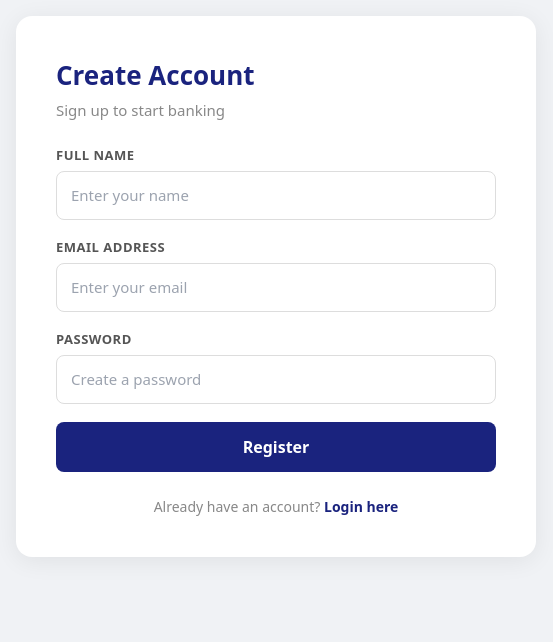
Test case: RegisterPage › shows generic error when no response message
The image size is (553, 642).
Type "Mary Anger" into the field with placeholder "Enter your name" at (276, 195), box left=56, top=171, right=496, bottom=220
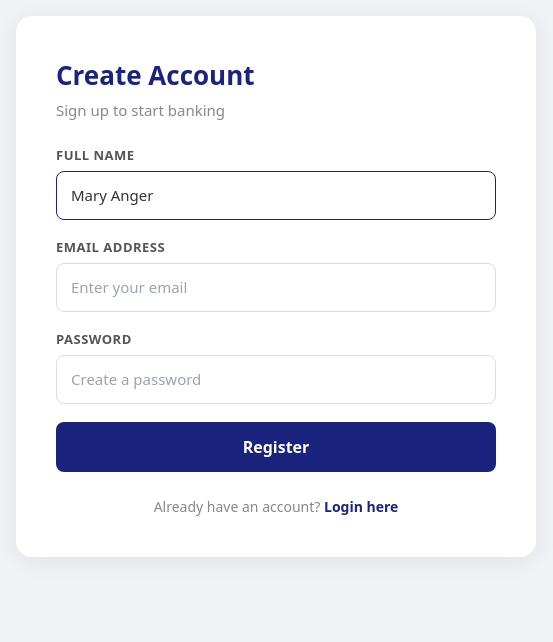
Type "mary@example.com" into the field with placeholder "Enter your email" at (276, 287), box left=56, top=263, right=496, bottom=312
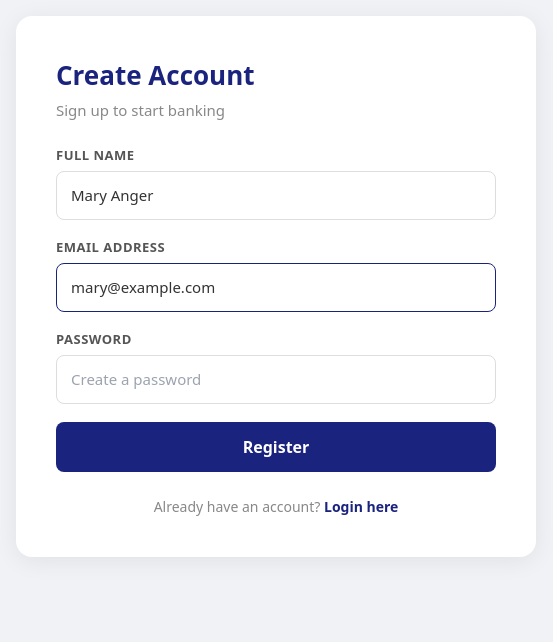
Type "123456" into the password field with placeholder "Create a password" at (276, 379), box left=56, top=355, right=496, bottom=404
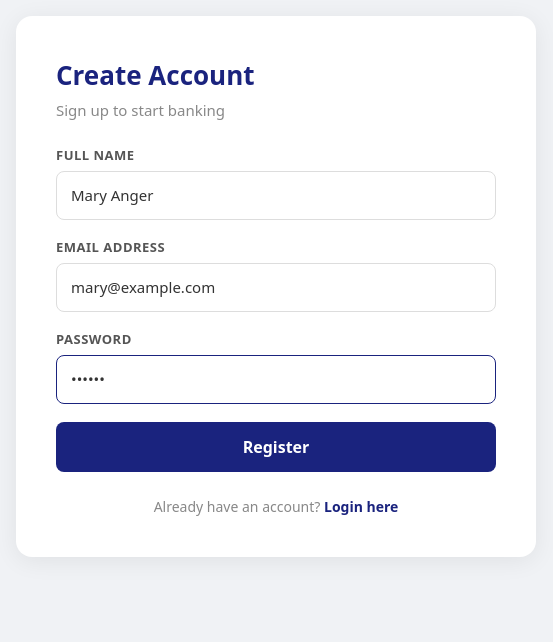
Click the button "Register" at (276, 446), box left=56, top=422, right=496, bottom=472
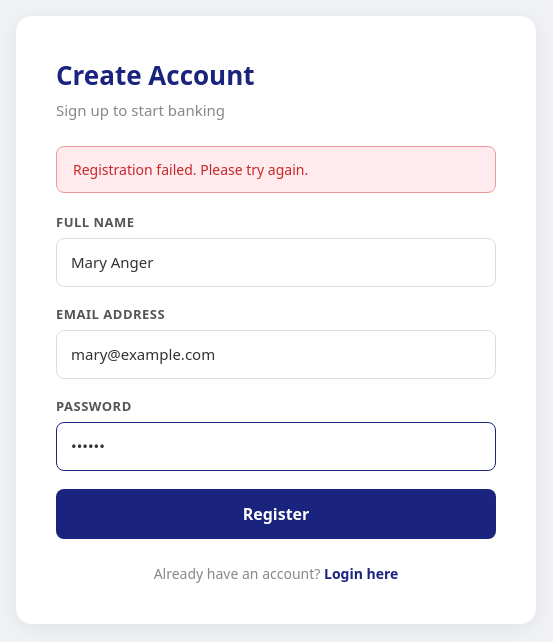
Check: the text "Registration failed. Please try again." is shown, box left=56, top=146, right=496, bottom=192
